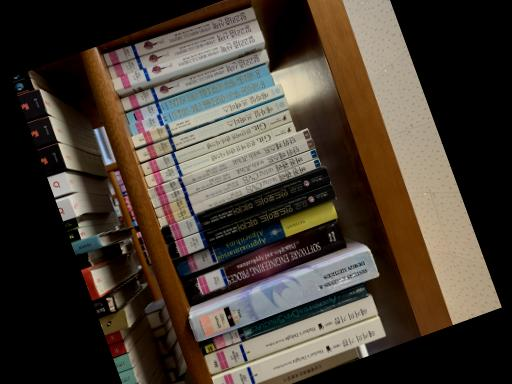book-spine: (188, 247, 378, 342), (180, 219, 346, 305), (204, 295, 378, 374), (165, 183, 336, 260), (160, 167, 330, 243), (174, 199, 336, 277), (199, 282, 368, 354), (211, 317, 386, 384), (146, 129, 310, 199), (150, 139, 314, 208), (157, 158, 321, 226), (154, 150, 317, 217), (143, 122, 295, 188), (135, 97, 289, 162), (140, 110, 292, 175), (130, 84, 283, 146), (119, 49, 269, 110), (110, 32, 264, 91), (103, 6, 255, 65), (108, 20, 260, 78), (128, 75, 274, 135), (125, 65, 269, 125)
